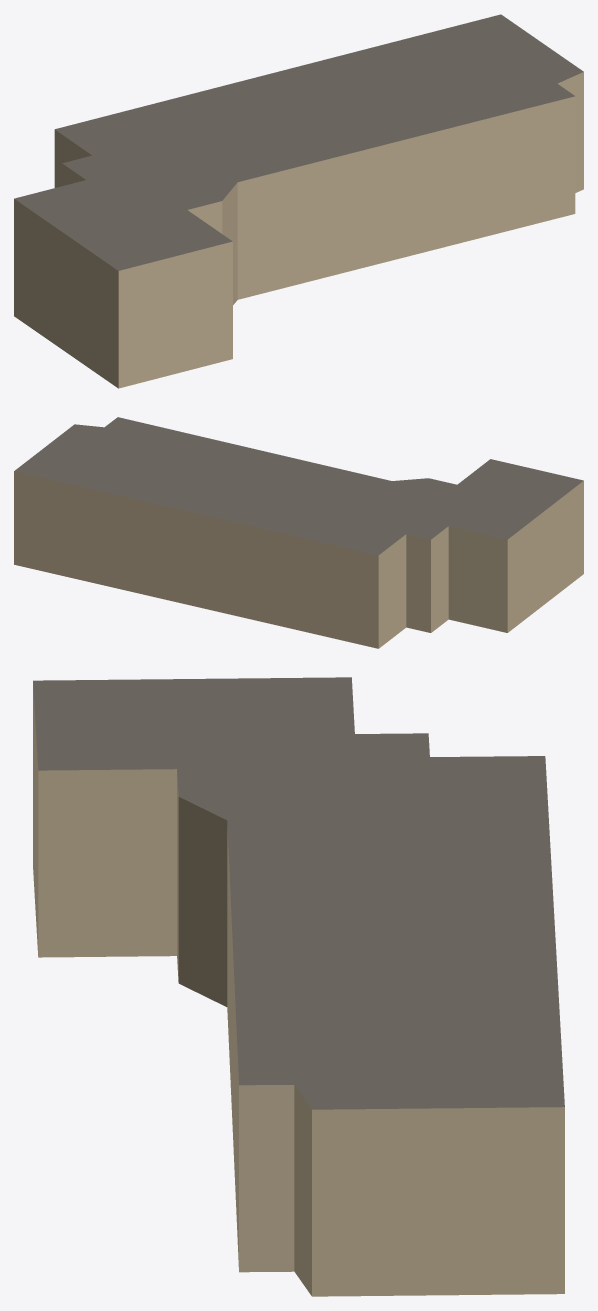
3 renders of one model, top to bottom at view 1: azimuth 30°, elevation 25°; view 2: azimuth 150°, elevation 25°; view 3: azimuth 270°, elevation 25°, orthographic. The views are drawn at different scales.
Visible parts, largest first — view 1: HP-w1511175632; view 2: HP-w1511175632; view 3: HP-w1511175632.
Boxes of the visible parts, left/top/right/bottom form: HP-w1511175632: left=14, top=14, right=583, bottom=388; HP-w1511175632: left=14, top=417, right=583, bottom=648; HP-w1511175632: left=33, top=677, right=564, bottom=1296.
Size of the model in its own units: 65.47 by 13.2 by 34.04.
